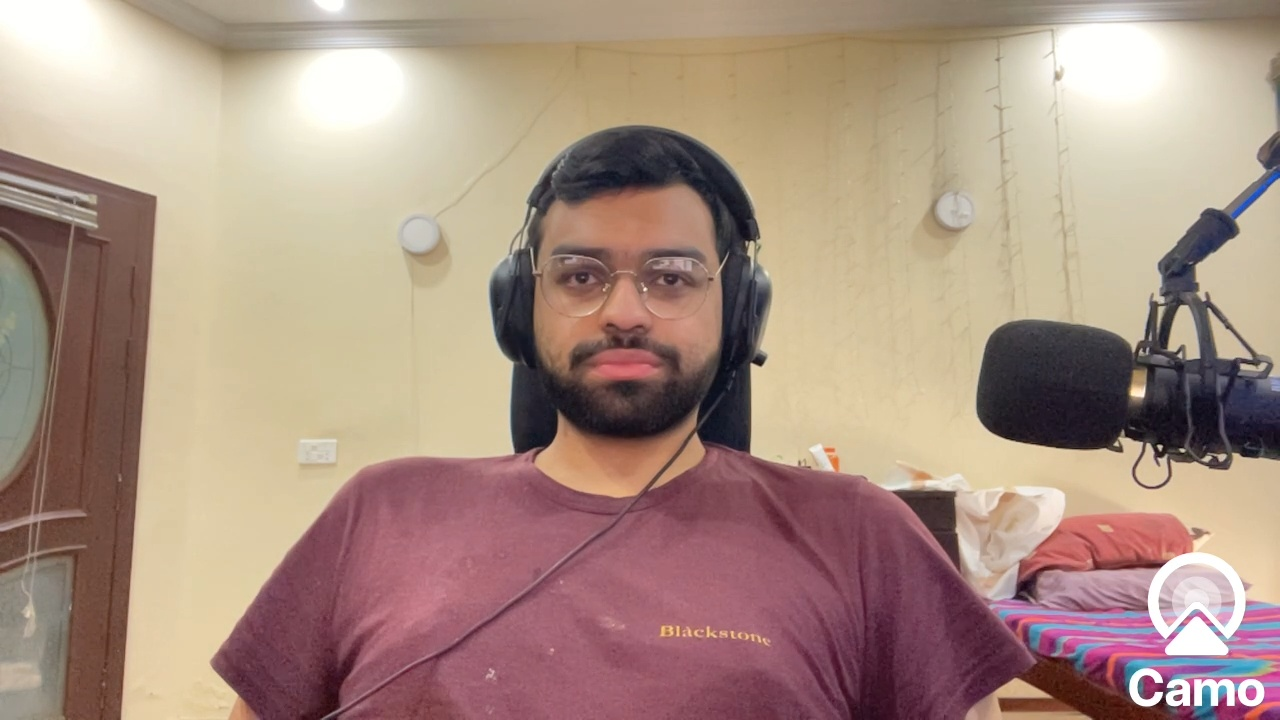surprised: (541, 156, 713, 434)
